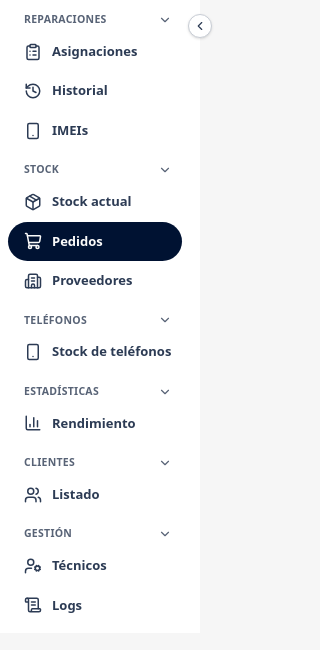
Test: plegar la columna lateral › el botón la pliega a la franja de iconos, lo guarda y la vuelve a desplegar
The image size is (320, 650).
Click the button named "Ocultar menú lateral" at (200, 26), box [188, 14, 212, 38]
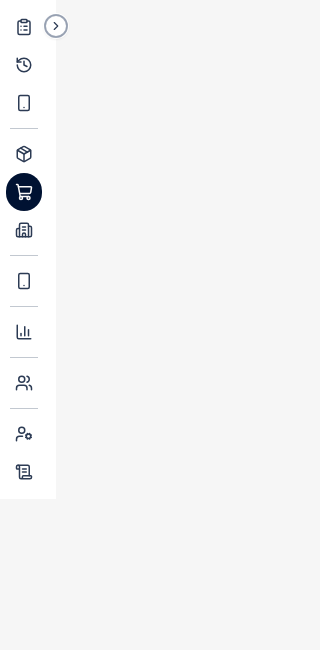
Now the link named "Stock · Pedidos" is empty, box [6, 173, 42, 211]
Now the button named "Mostrar menú lateral" is collapsed
Click the button named "Mostrar menú lateral" at (56, 26), box [44, 14, 68, 38]
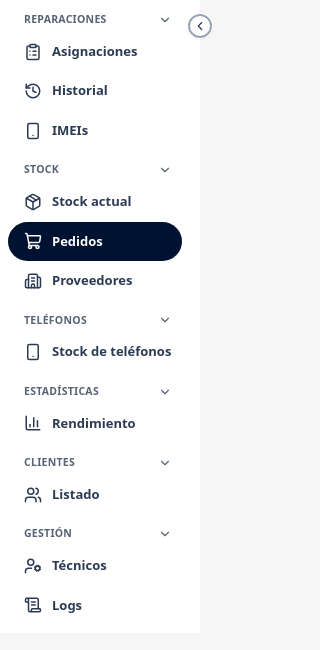
Now the link "Pedidos" is shown, box [8, 222, 182, 261]
